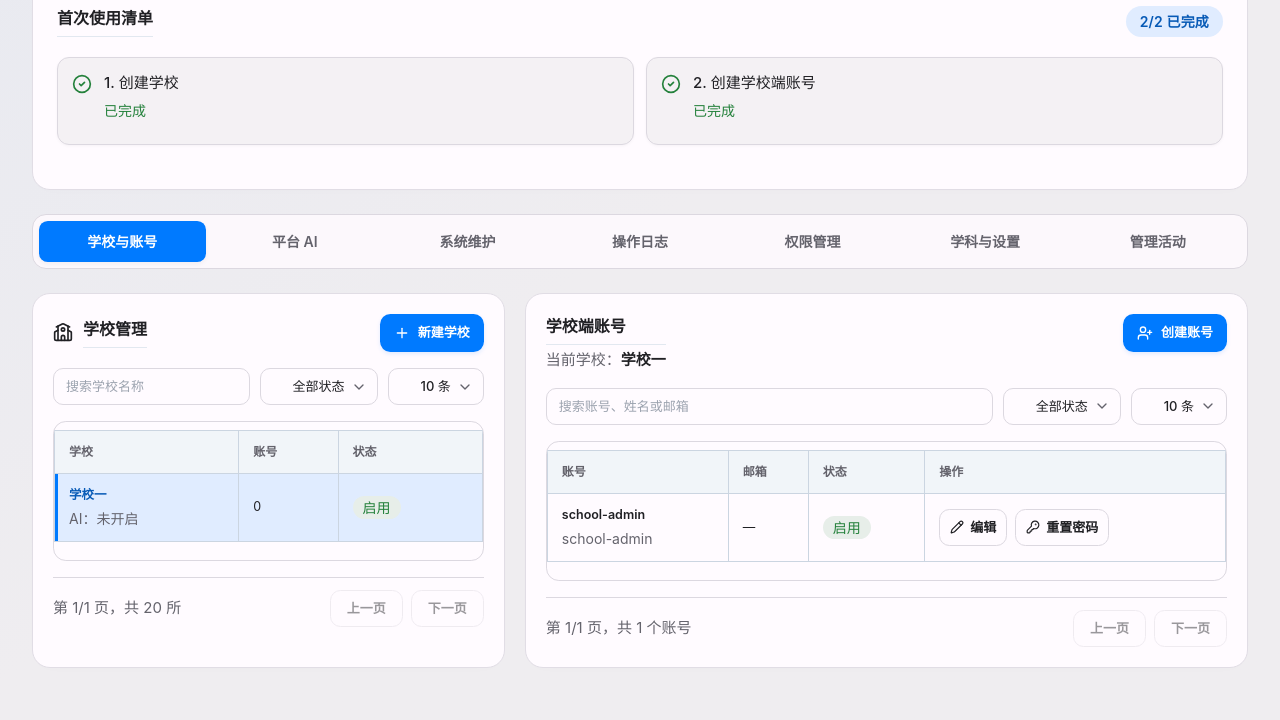
AdminWorkspace › shows a password mismatch inside the reset dialog
This screenshot has width=1280, height=720.
(page scrolled)
Click the button "重置密码".
click(1062, 528)  # box 1015,509 -> 1109,546
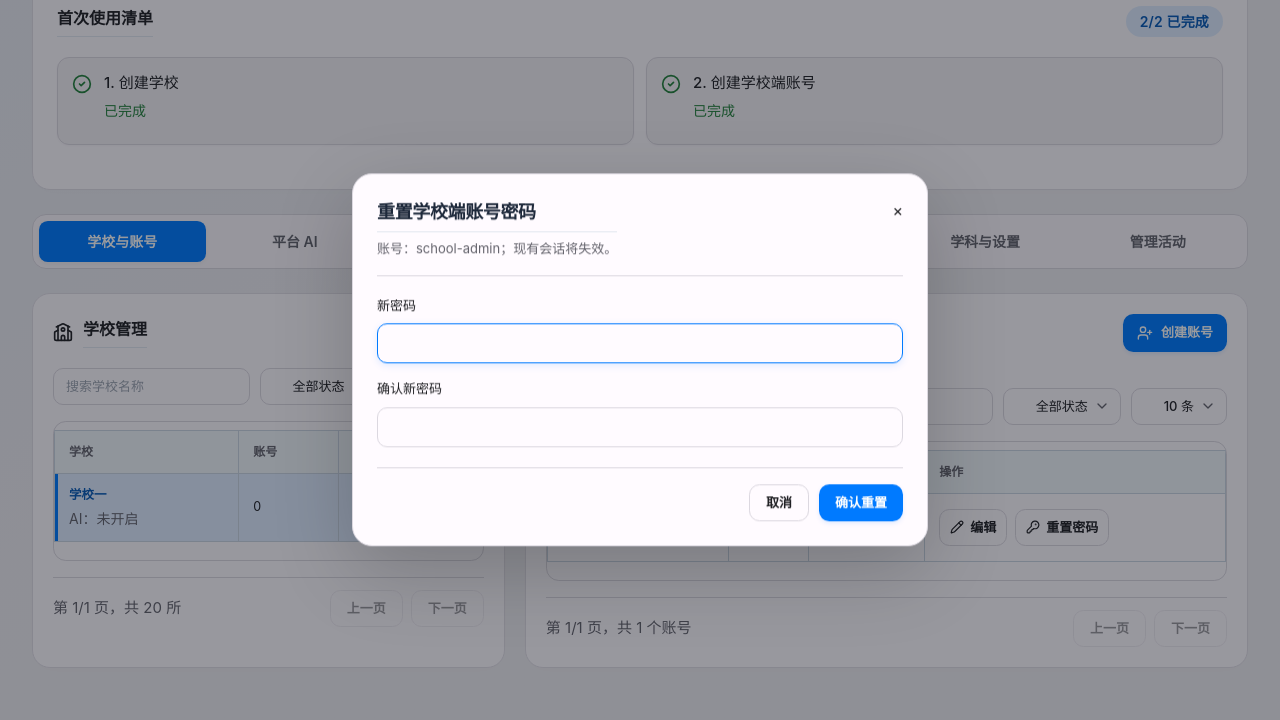
Type "password-one" into the password field labelled "新密码".
click(640, 344); type("password-one")  # box 377,324 -> 903,364
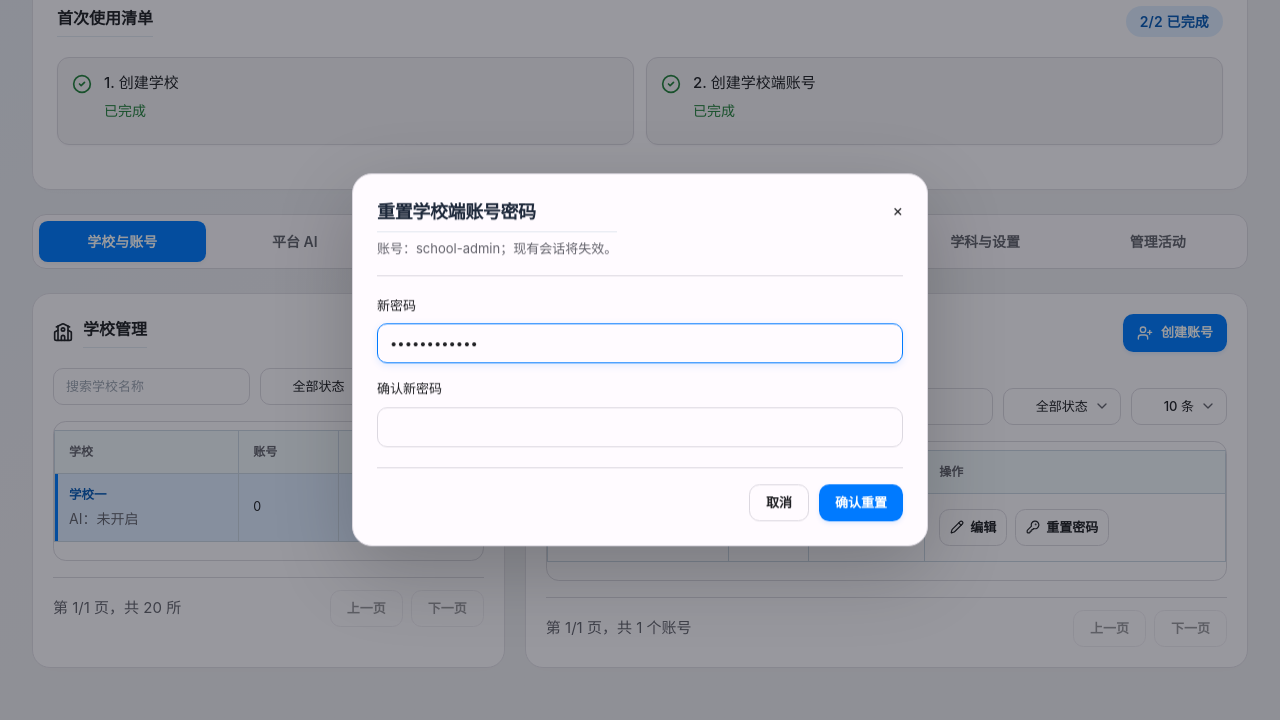
Type "password-two" into the password field labelled "确认新密码".
click(640, 427); type("password-two")  # box 377,407 -> 903,447
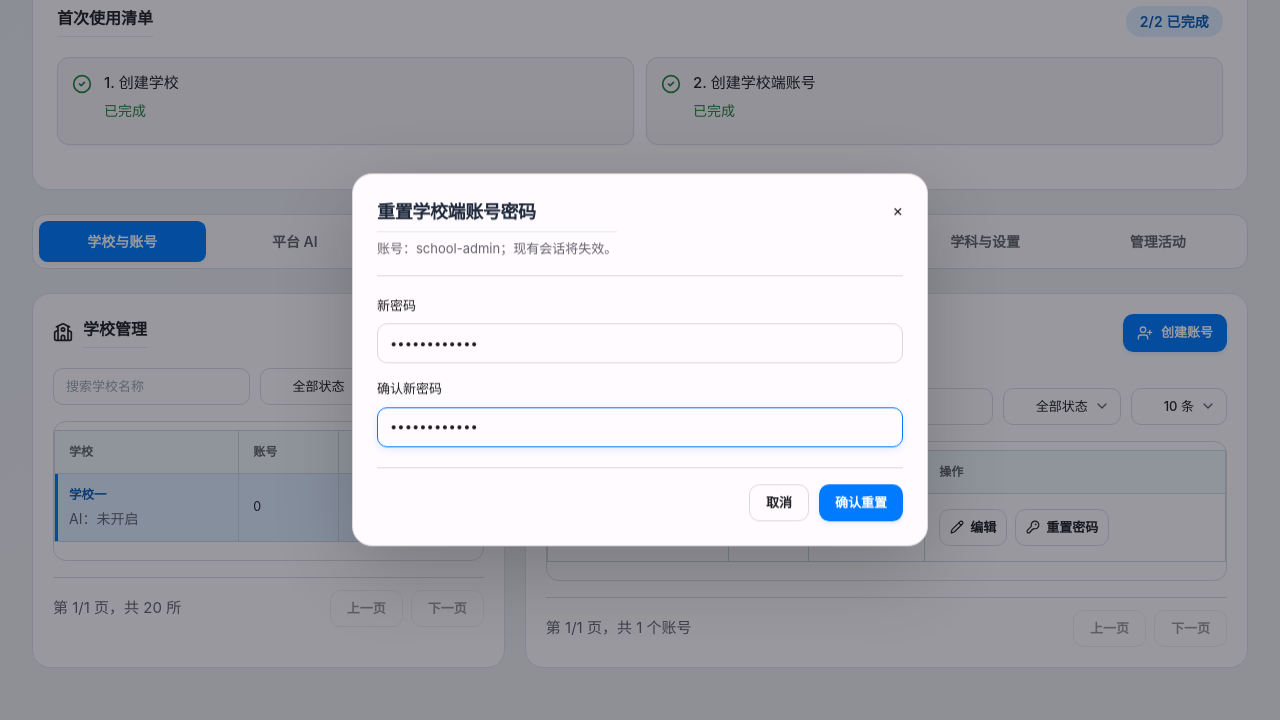
Click the button "确认重置".
click(861, 503)  # box 819,484 -> 903,522
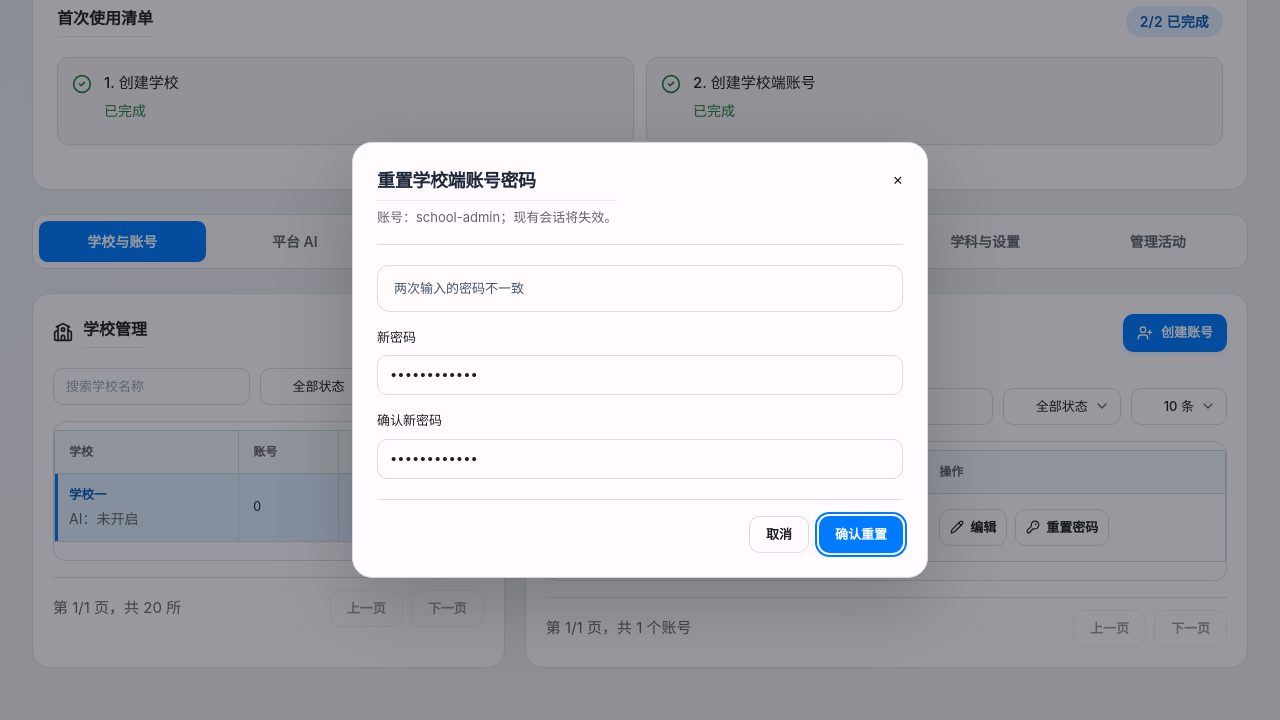
Result: the message reads "两次输入的密码不一致" at 394,280 -> 524,296
